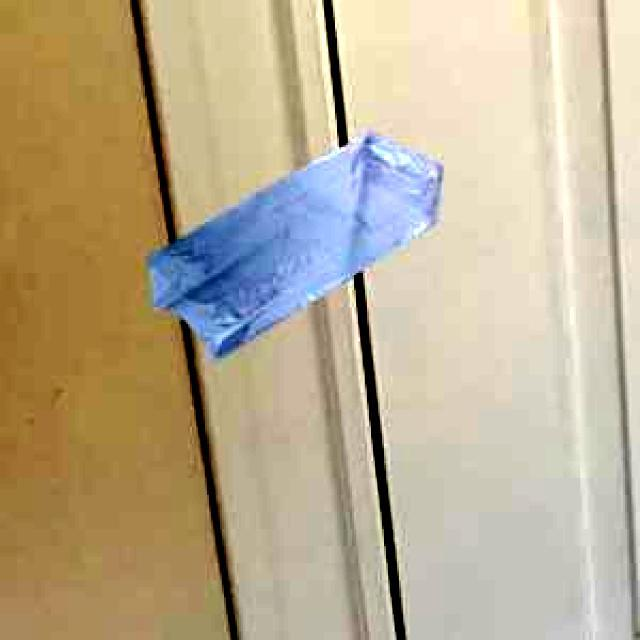Plastic_Bag: (144, 129, 438, 360)
